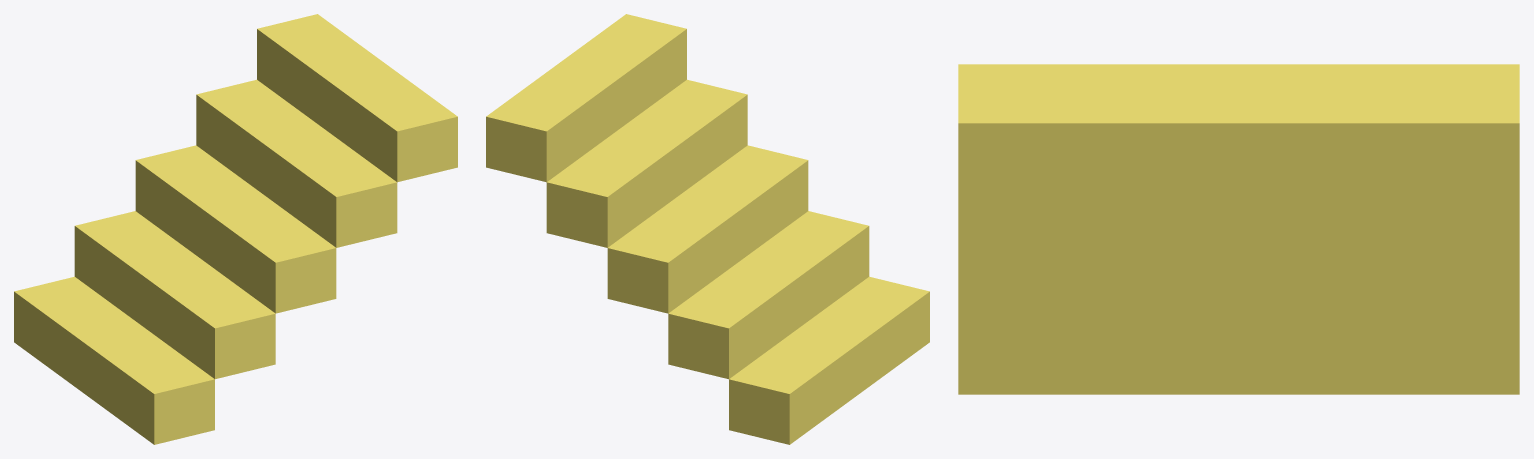
Rendered from stairs.glb.
3 renders of one model, left to right at view 1: azimuth 30°, elevation 25°; view 2: azimuth 150°, elevation 25°; view 3: azimuth 270°, elevation 25°, orthographic. The views are drawn at different scales.
Size of the model in its own units: 25 by 20 by 20.
